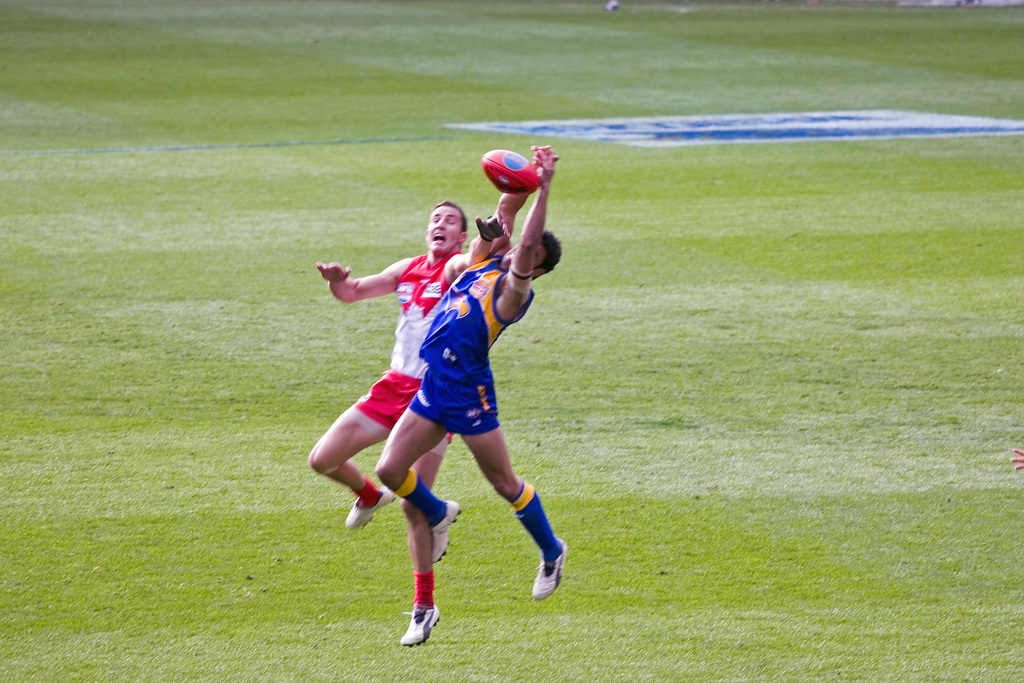Person: (304, 200, 512, 650), (374, 145, 566, 599)
